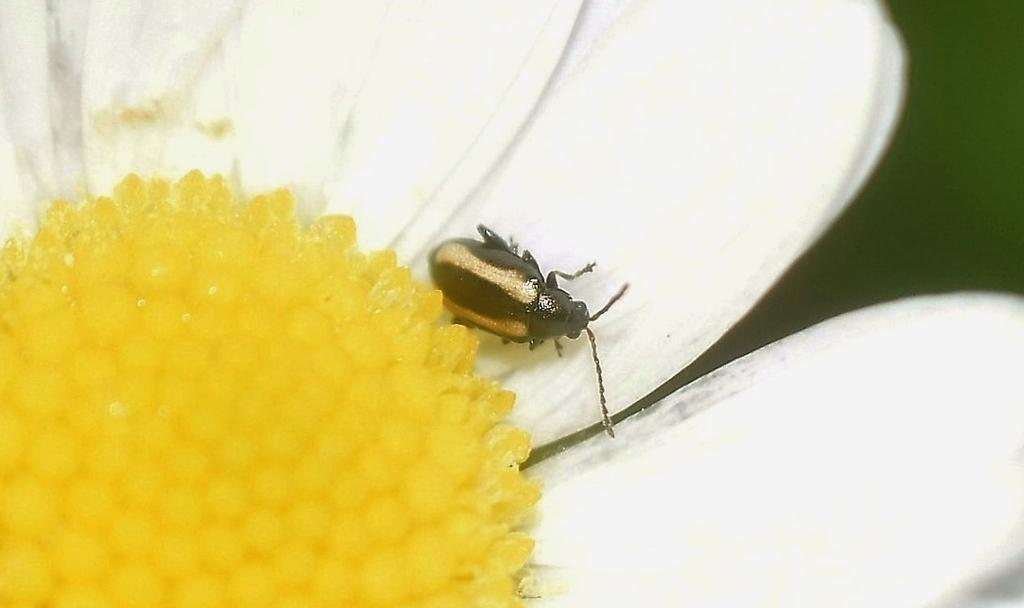flea_beetle: (403, 190, 671, 455)
